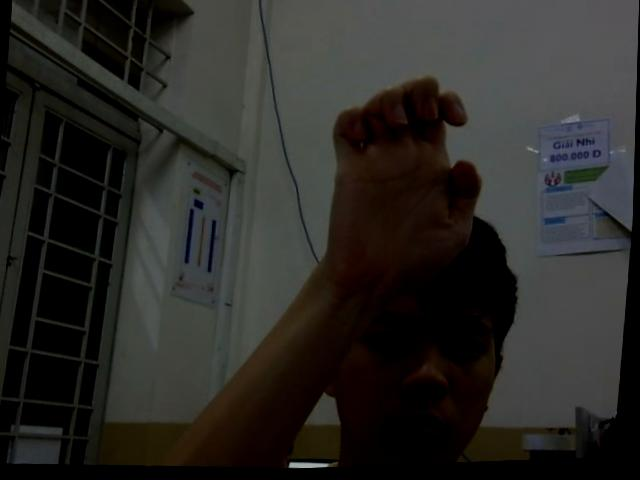E: (317, 68, 490, 294)
